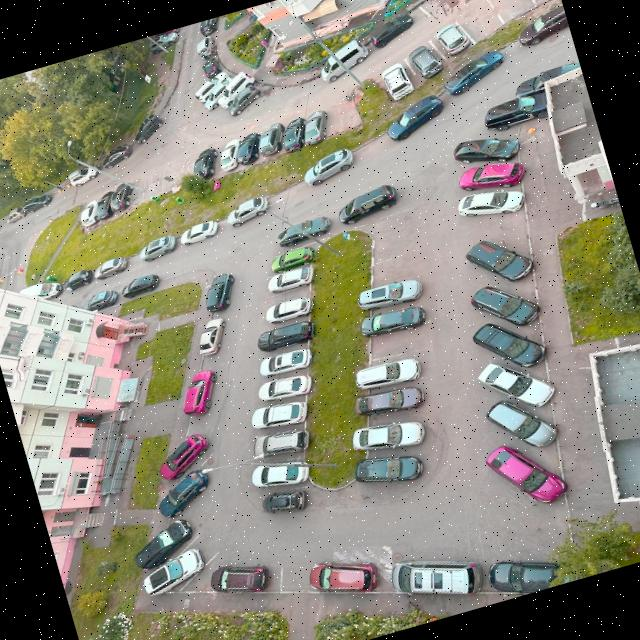car: (484, 444, 568, 505), (476, 360, 555, 407), (484, 400, 558, 448), (473, 321, 545, 368), (390, 559, 483, 595), (131, 518, 193, 571), (463, 239, 537, 283), (469, 285, 541, 327), (143, 548, 204, 596), (385, 94, 447, 141), (443, 49, 504, 96), (483, 91, 548, 131), (158, 469, 211, 518), (158, 432, 210, 480), (487, 558, 558, 593), (336, 185, 398, 225), (353, 385, 426, 418), (317, 39, 370, 84), (351, 421, 427, 451), (308, 560, 377, 593), (515, 62, 580, 97), (355, 357, 423, 390), (356, 278, 424, 311), (361, 305, 426, 338), (519, 4, 568, 47), (457, 161, 527, 191), (302, 147, 355, 185), (255, 319, 315, 352), (354, 456, 423, 484), (452, 137, 522, 164), (276, 215, 331, 248), (456, 190, 523, 217), (258, 347, 313, 379), (215, 69, 257, 110), (210, 564, 271, 592), (251, 429, 309, 458), (182, 369, 217, 417), (369, 12, 415, 48), (250, 401, 308, 429), (249, 462, 309, 488), (226, 194, 268, 227), (266, 296, 315, 324), (258, 375, 311, 400), (267, 266, 314, 294), (204, 271, 235, 312), (381, 63, 415, 100), (193, 71, 232, 103), (433, 22, 470, 55), (202, 75, 235, 112), (118, 272, 161, 300), (408, 45, 443, 79), (197, 316, 226, 356), (260, 489, 305, 514), (178, 218, 218, 246), (271, 246, 314, 272), (226, 85, 261, 116), (139, 233, 176, 261), (302, 109, 329, 146), (132, 112, 163, 144), (218, 136, 244, 174), (258, 121, 286, 156), (234, 131, 262, 166), (91, 255, 129, 280), (82, 288, 120, 312), (101, 141, 133, 169), (192, 146, 218, 180), (283, 117, 306, 153), (19, 281, 62, 300), (67, 164, 101, 187), (148, 30, 180, 54), (108, 181, 133, 211), (63, 270, 93, 293), (21, 192, 51, 213), (79, 198, 100, 227), (194, 34, 217, 60), (96, 189, 114, 219), (201, 56, 223, 80), (198, 16, 218, 38), (6, 205, 25, 223)
